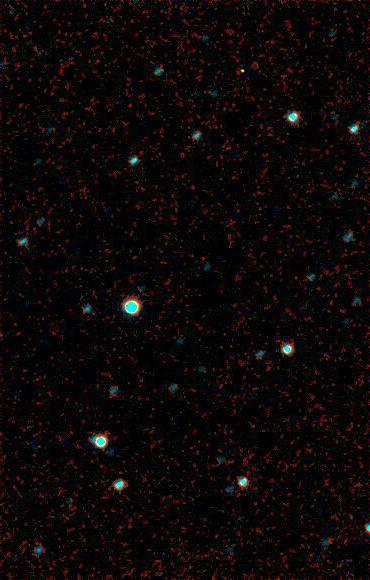star: (227, 57, 257, 87)
